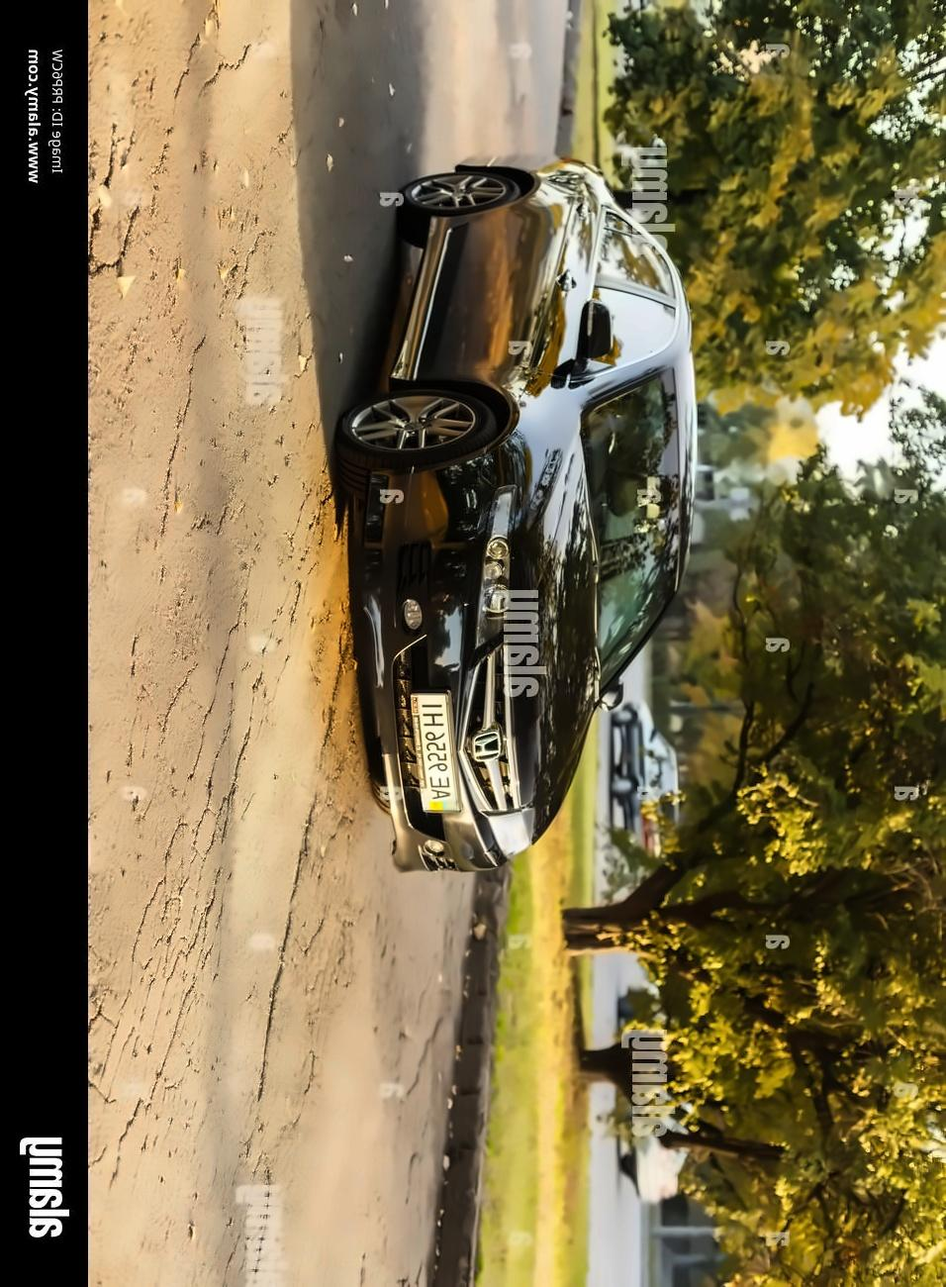Car hood: (503, 404, 593, 835)
Driver-s door - -F-R-: (366, 277, 692, 394)
Fender - -F-R-: (408, 346, 586, 450)
Front bumper: (363, 437, 519, 878)
Headlight - -L-: (486, 801, 539, 860)
Headlight - -R-: (461, 485, 517, 675)
Passenger-s door - -R-R-: (423, 196, 681, 304)
Rear light - -R-: (388, 204, 481, 399)
Side mirror - -R-: (560, 288, 617, 385)
